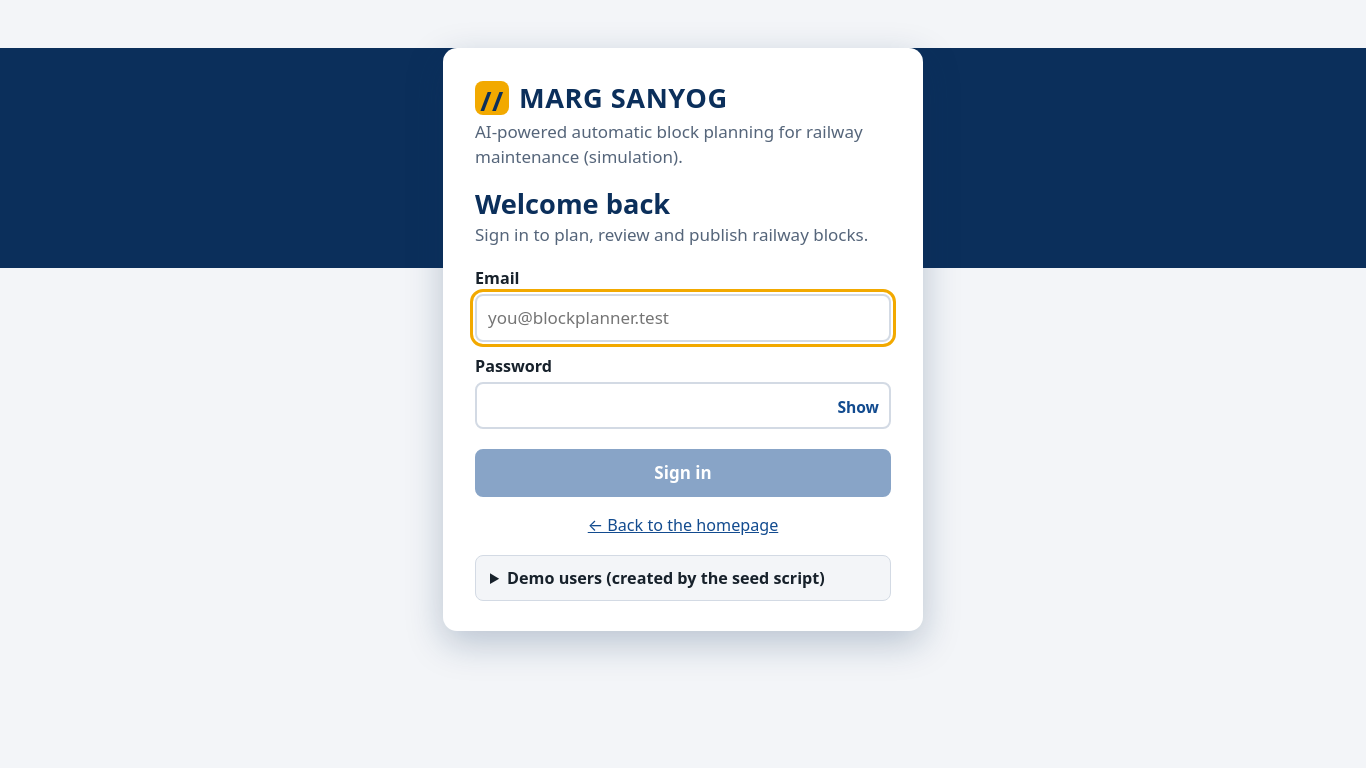
login page › says so when the server cannot be reached
Type "a@b.test" into the field labelled "Email". click: (683,318)
box: left=475, top=294, right=891, bottom=342
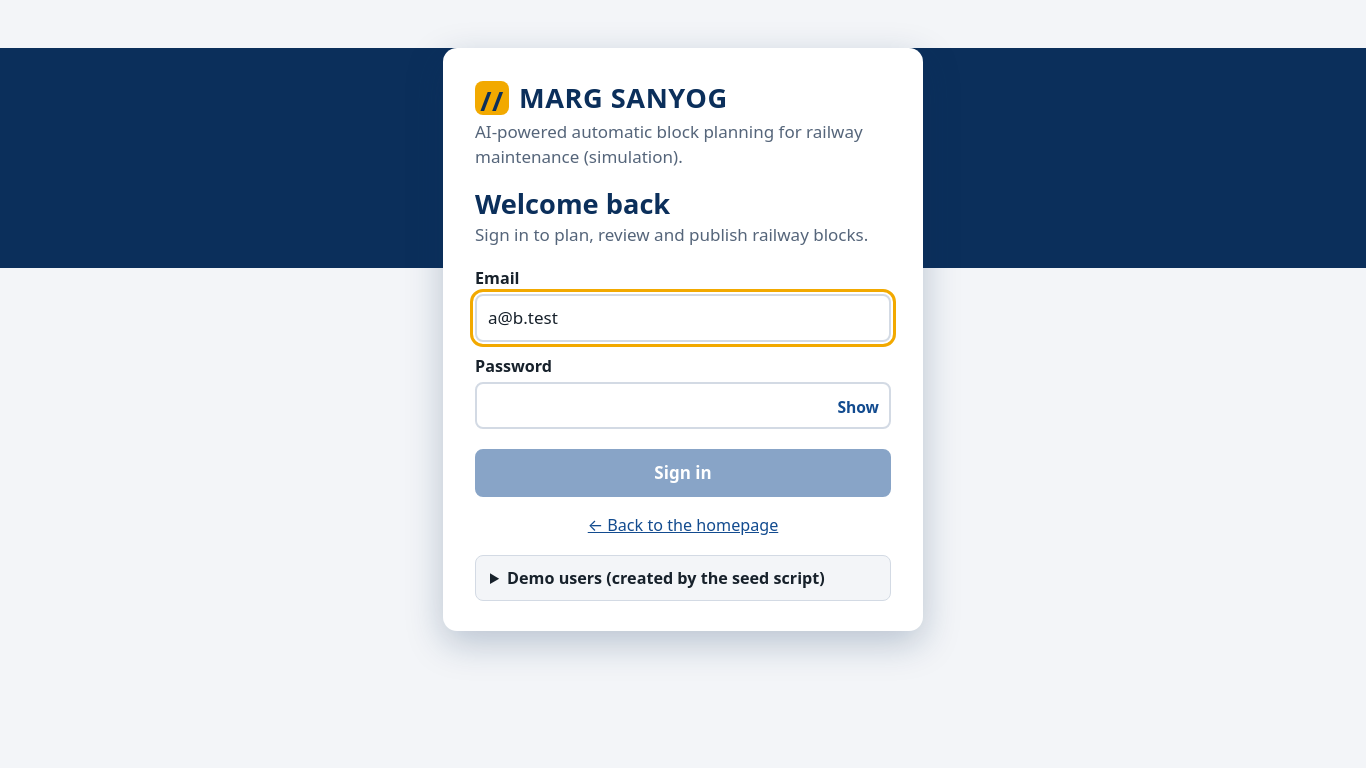
Type "x" into the password field labelled "Password". click: (683,406)
box: left=475, top=382, right=891, bottom=429
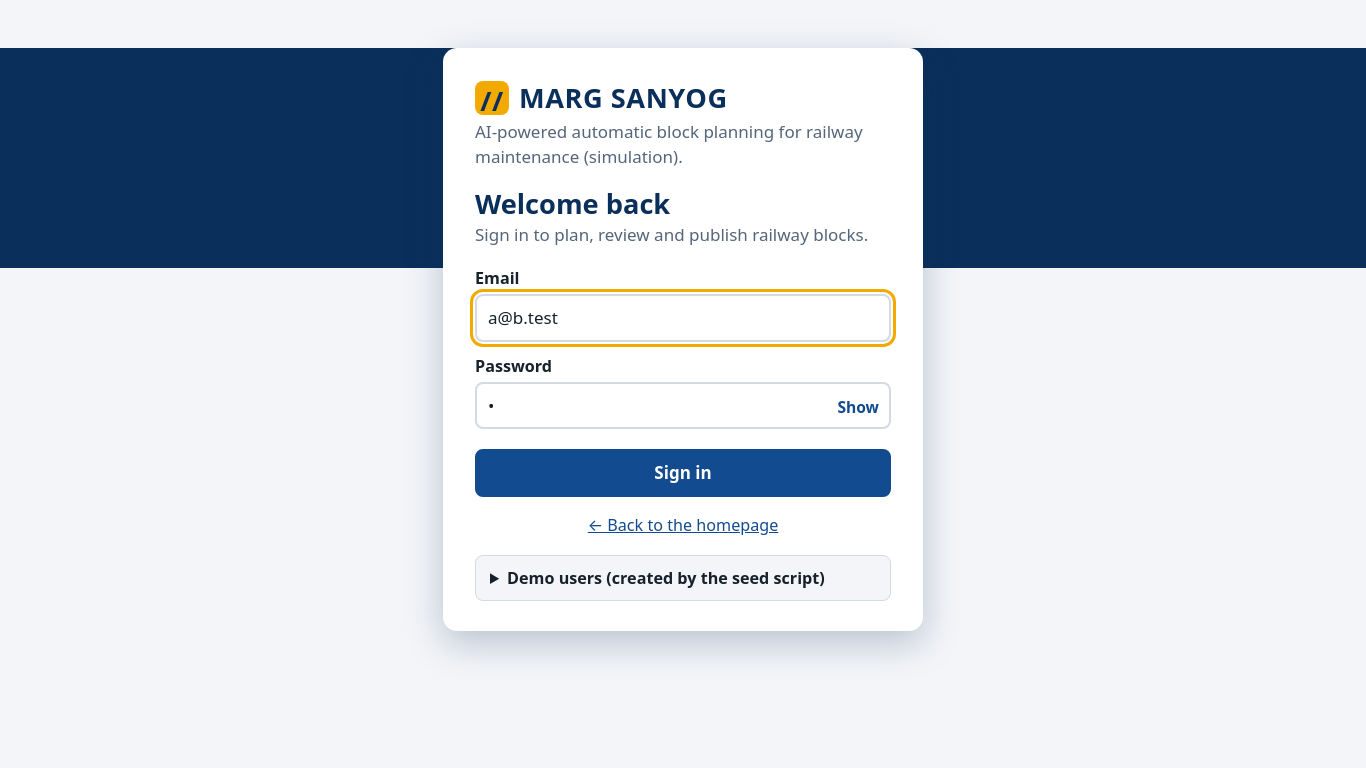
Click the button "Sign in". click: (683,473)
box: left=475, top=449, right=891, bottom=497
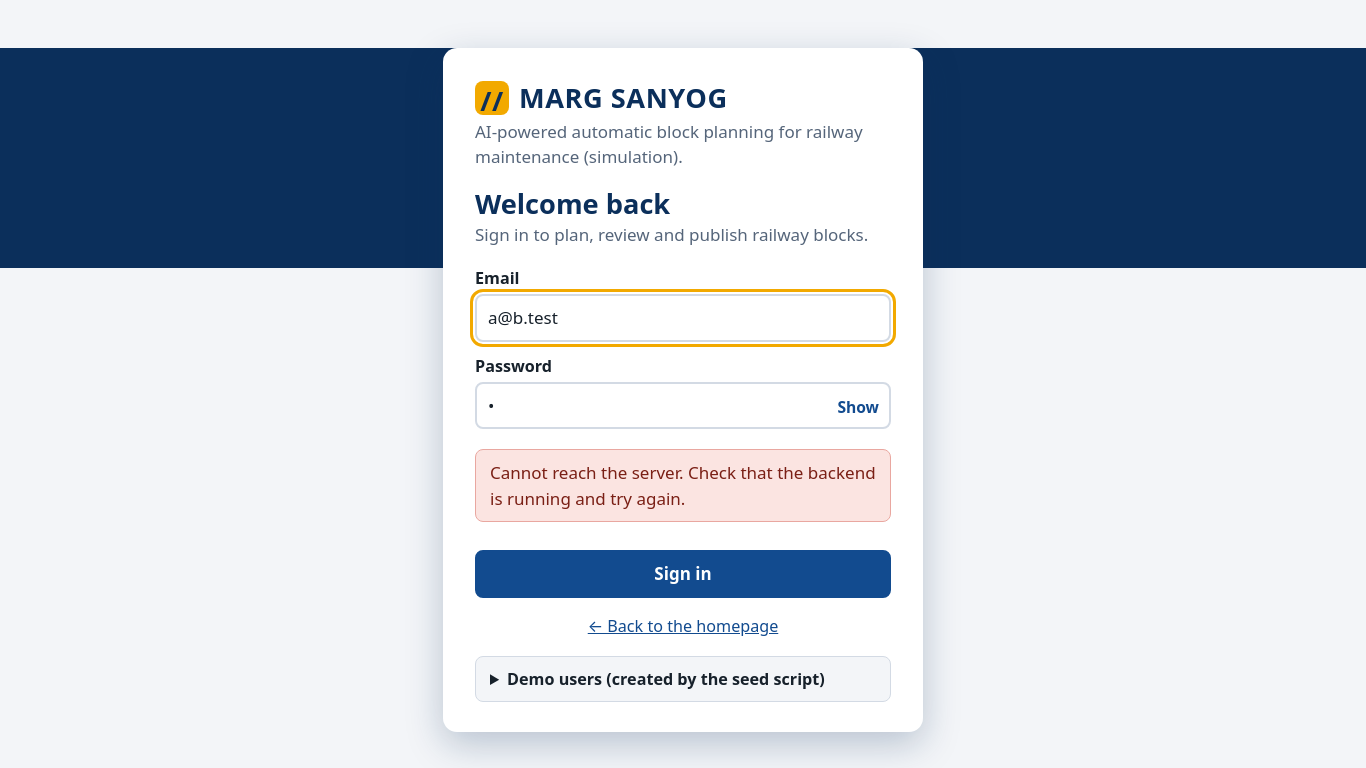
Check: the message shows "backend is running", box left=490, top=461, right=876, bottom=510
